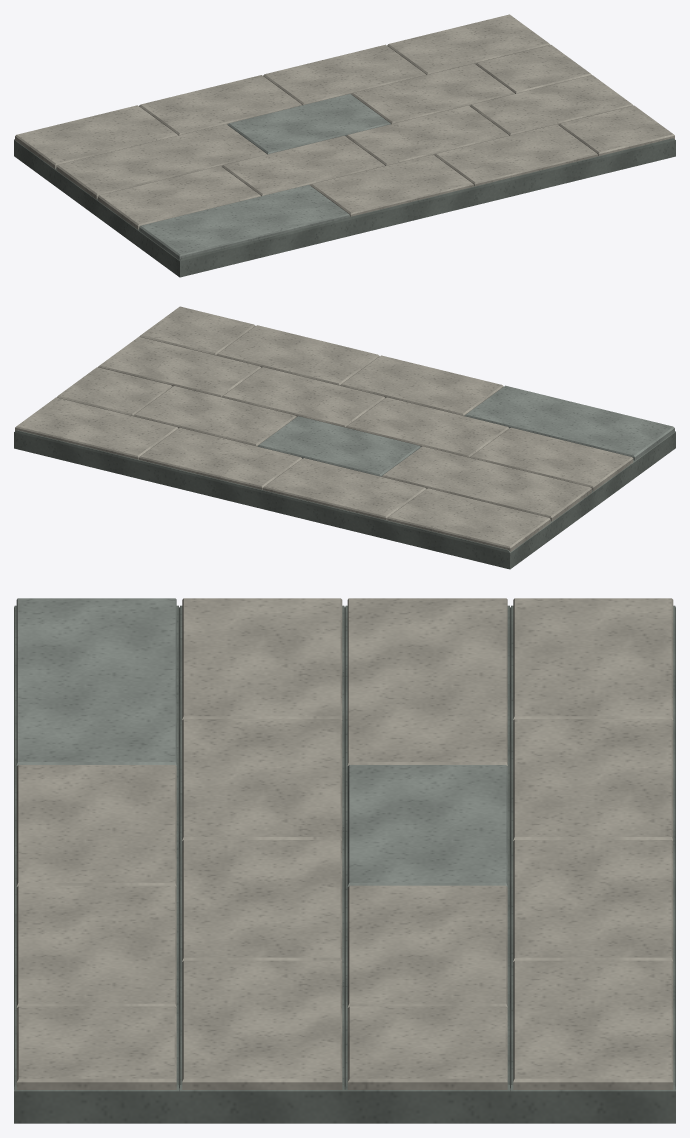
3 renders of one model, top to bottom at view 1: azimuth 30°, elevation 25°; view 2: azimuth 150°, elevation 25°; view 3: azimuth 270°, elevation 25°, orthographic. The views are drawn at different scales.
Parts seen in each view (by area): view 1: C12_stone, C12_joint, C12_cool; view 2: C12_stone, C12_joint, C12_cool; view 3: C12_stone, C12_cool, C12_joint.
Boxes of the visible parts, left/top/right/bottom form: C12_stone: left=15, top=14, right=674, bottom=229; C12_joint: left=14, top=138, right=675, bottom=277; C12_cool: left=139, top=94, right=390, bottom=259; C12_stone: left=15, top=306, right=633, bottom=551; C12_joint: left=14, top=430, right=675, bottom=569; C12_cool: left=257, top=385, right=674, bottom=476; C12_stone: left=16, top=598, right=673, bottom=1089; C12_cool: left=16, top=598, right=507, bottom=886; C12_joint: left=14, top=605, right=675, bottom=1123.
Size of the model in its own units: 3.8 by 0.16 by 2.2.
3 materials, 3 textured.
